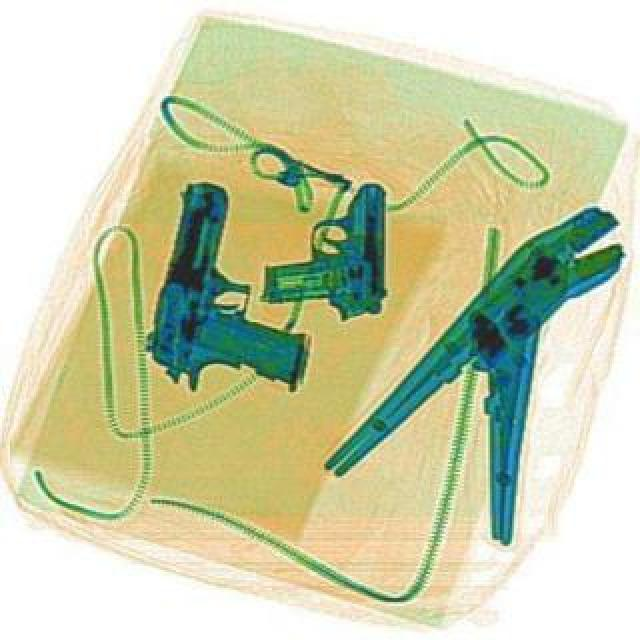gun: (132, 174, 346, 412), (258, 178, 384, 318)
